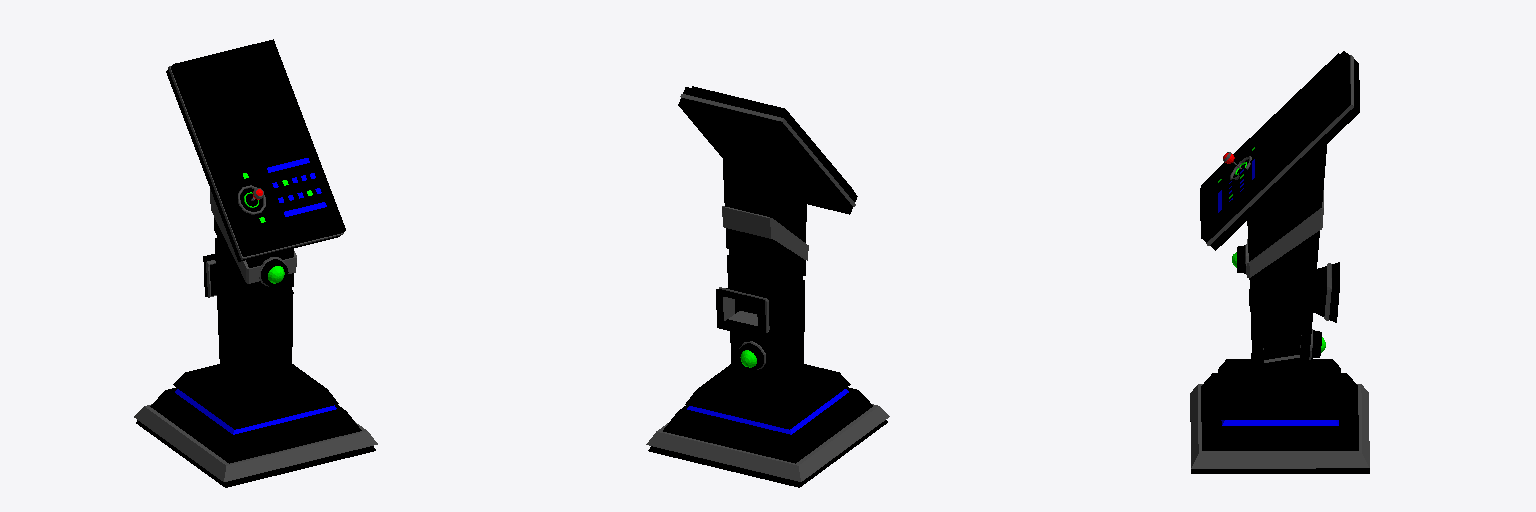
The picture shows the model from 3 angles: view 1: azimuth 30°, elevation 25°; view 2: azimuth 150°, elevation 25°; view 3: azimuth 270°, elevation 25°; orthographic projection.
Parts seen in each view (by area): view 1: objPanel; view 2: objPanel; view 3: objPanel.
Part boxes in pixels (x1,y1,x2,y2): objPanel: (134, 39, 377, 487); objPanel: (646, 86, 889, 487); objPanel: (1190, 51, 1369, 473).
Size of the model in its own units: 0.45 by 1 by 0.45.
1 materials, 1 textured.